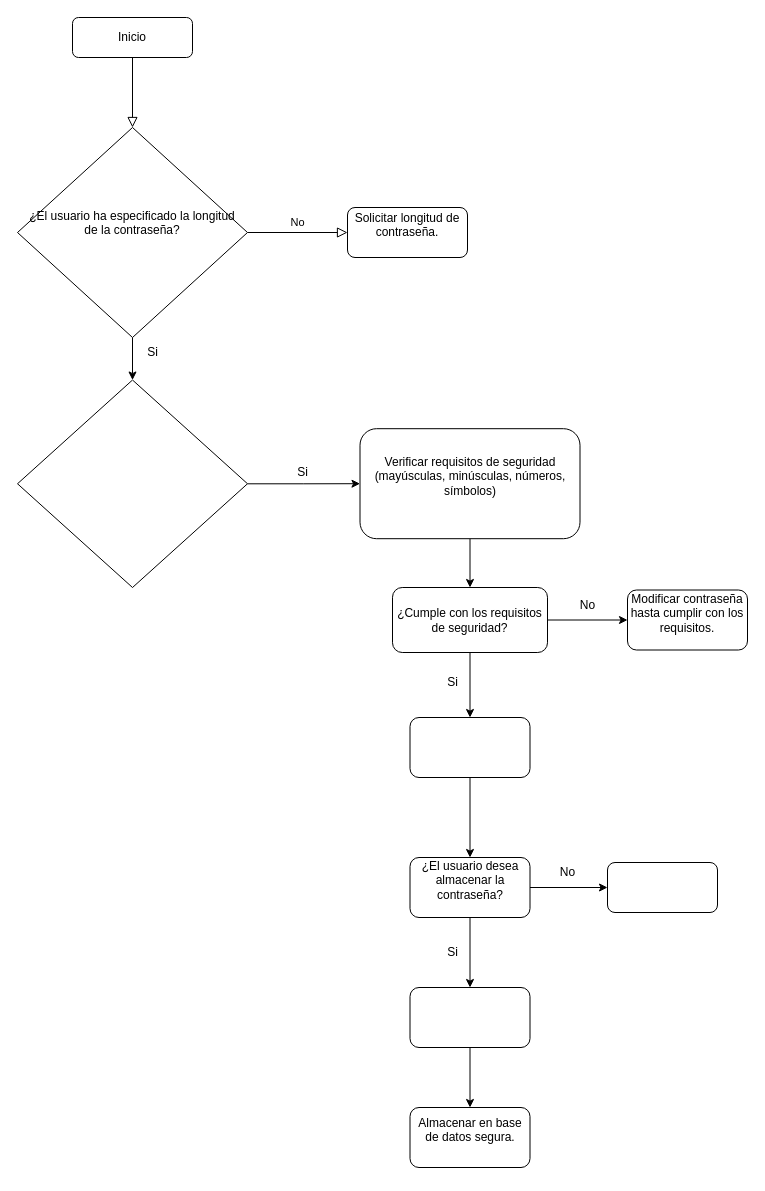
Image size: 765x1191. Some labels were removed from this diagram. Here are the shapes that lost their labels. From the top down, the centre of each, then its label:
At (132,483): "Generar contraseña de la longitud solicitada".
At (469,747): "Mostrar contraseña generada.".
At (662,887): "Fin".
At (469,1017): "Encriptar contraseña".
